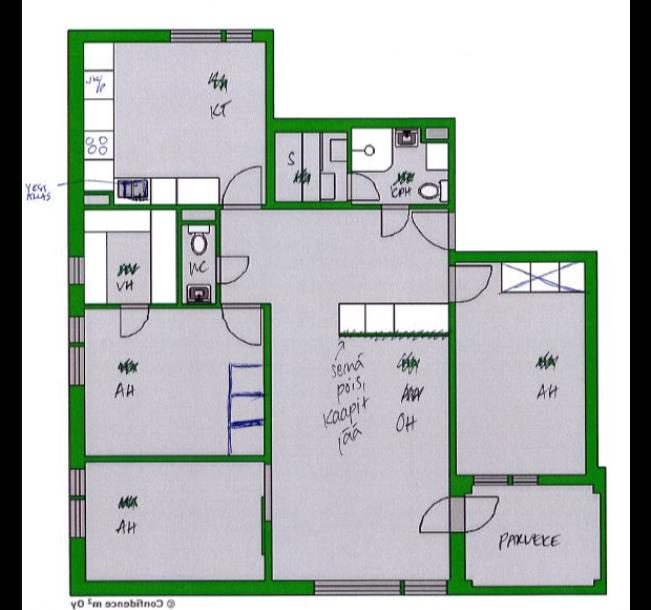door: (219, 159, 271, 214), (452, 491, 507, 535), (219, 300, 268, 349), (410, 206, 459, 254), (448, 260, 495, 305), (416, 492, 460, 538), (214, 247, 254, 287), (115, 297, 154, 338), (380, 196, 410, 240), (348, 170, 384, 202)
window: (312, 574, 406, 598), (168, 20, 227, 45), (402, 572, 452, 600), (64, 495, 90, 544), (64, 340, 89, 390), (220, 20, 262, 44), (472, 466, 512, 489), (66, 250, 88, 290), (65, 464, 90, 498), (66, 312, 91, 345), (508, 468, 543, 487)
